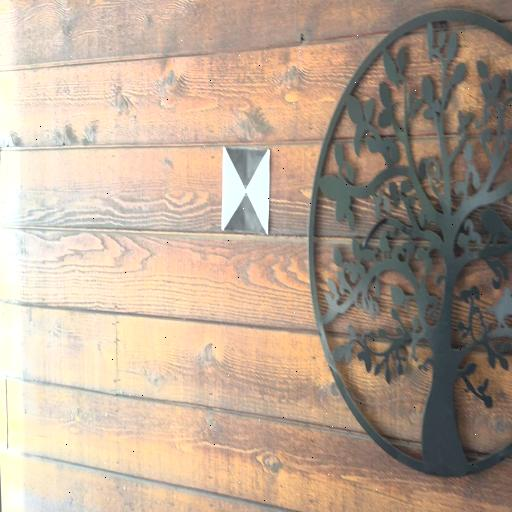target: (223, 149, 269, 234)
